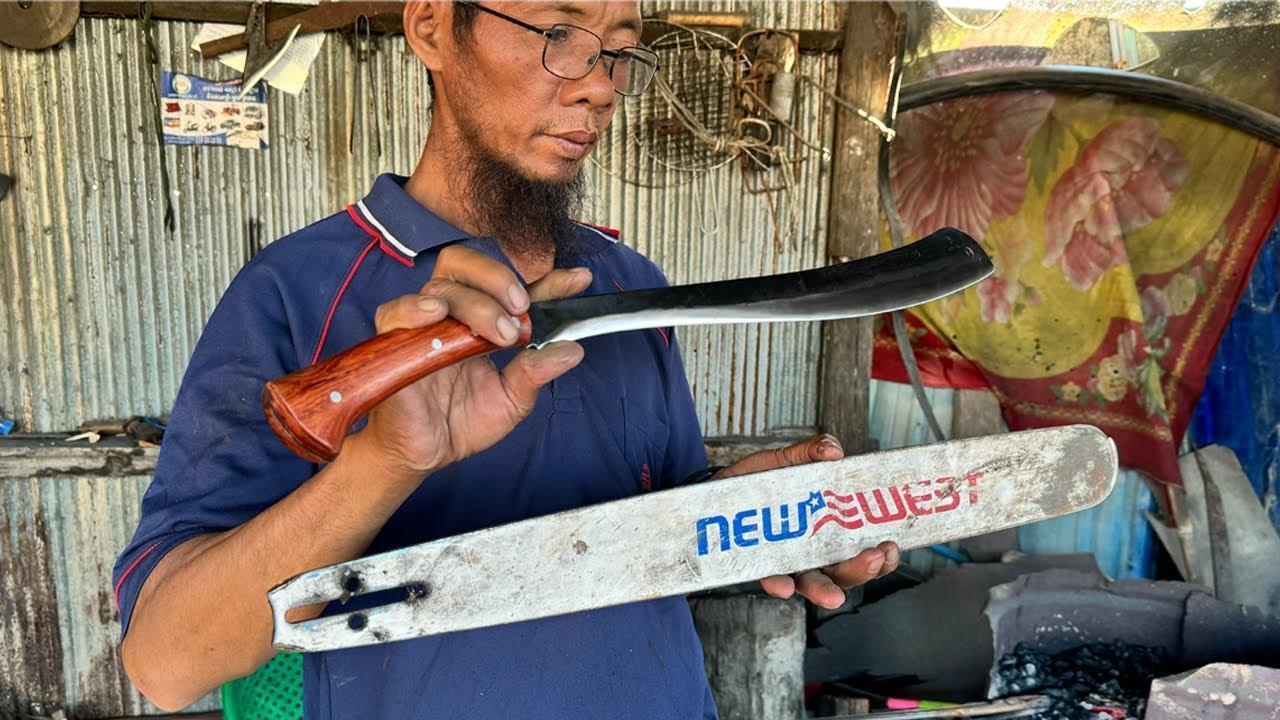facao: (266, 226, 994, 456)
